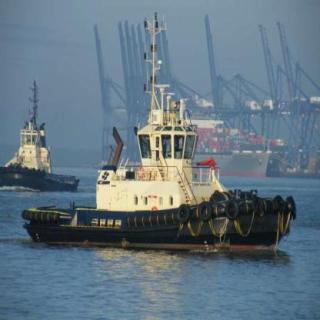Tug Boat: (27, 6, 320, 249)
